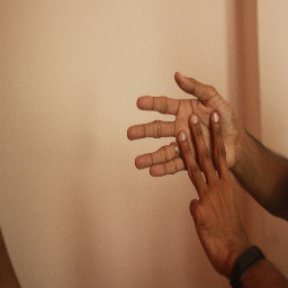M: (124, 70, 242, 209)
